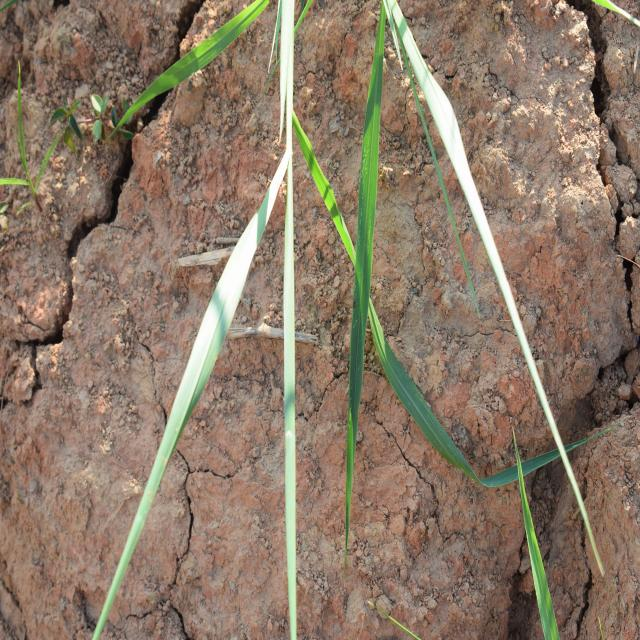green_foxtail: (161, 50, 450, 540)
